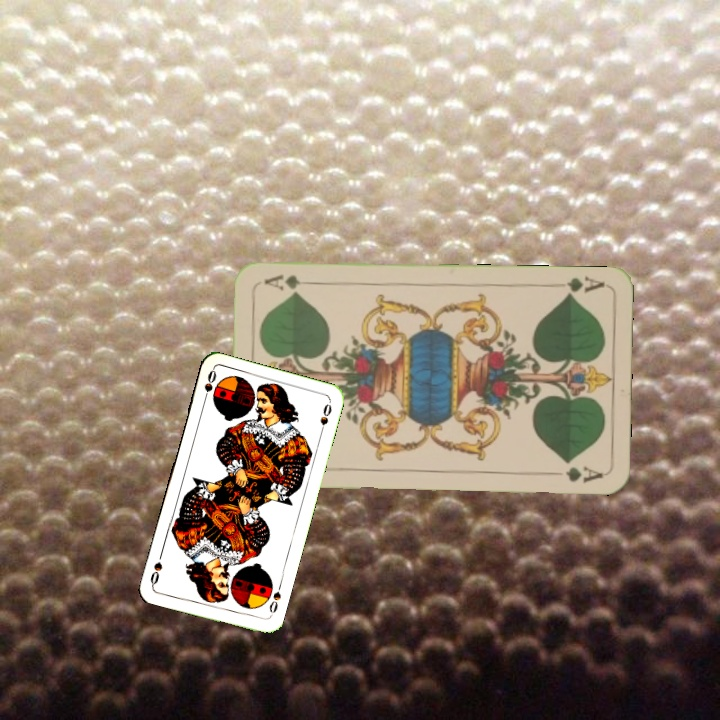GA: (561, 273, 607, 300)
SO: (199, 366, 219, 406), (265, 580, 284, 616)
